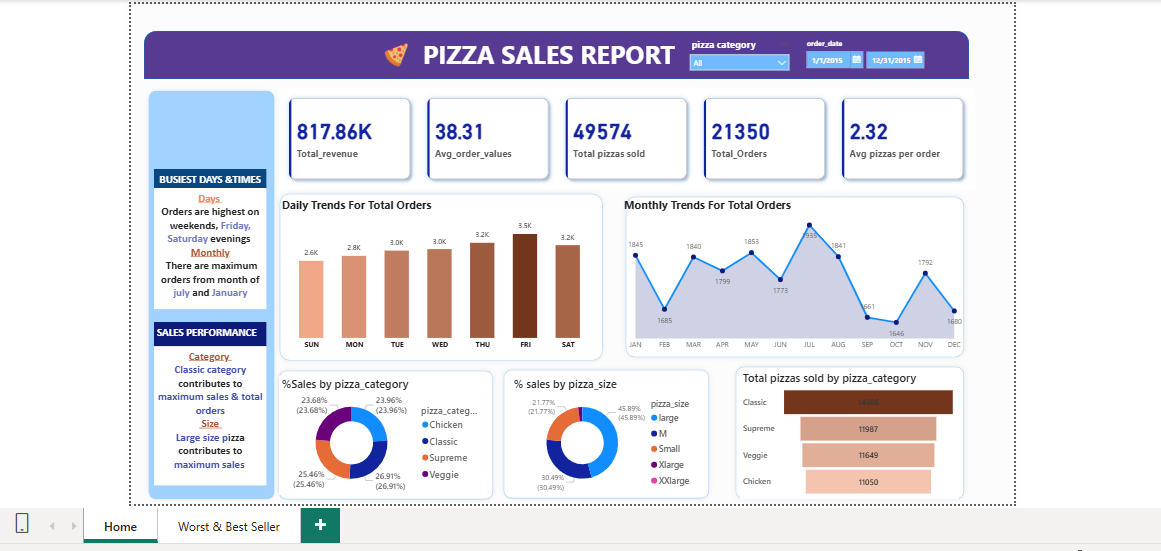

The dashboard page shown, as its layout file describes it:
{"tool":"powerbi","page":{"name":"Home","canvas":[1500,850],"ordinal":0},"visuals":[{"type":"shape","box":[21.5,138.8,229.7,710.5],"z":0},{"type":"cardVisual","fields":{"Data":["pizza_sales.Total_revenue","pizza_sales.Avg_order_values","pizza_sales.Total pizzas sold","pizza_sales.Total_Orders","pizza_sales.Avg pizzas per order"]},"box":[251.2,143.5,1184.2,172.2],"z":1000},{"type":"shape","box":[22.1,45.9,1402.5,81.6],"z":2000},{"type":"textbox","box":[491.4,51.7,469,70.7],"z":3000},{"type":"shape","box":[244.5,315.2,564.9,299.7],"z":4000},{"type":"columnChart","title":"Daily Trends For Total Orders","fields":{"Y":["pizza_sales.Total_Orders"],"Category":["pizza_sales.Order_Day"]},"box":[252.2,328.3,547.8,269.6],"z":5000},{"type":"shape","box":[832.6,319.6,591.3,289.1],"z":6000},{"type":"lineChart","title":"Monthly Trends For Total Orders","fields":{"Category":["pizza_sales.Order_Month"],"Y":["pizza_sales.Total_Orders"]},"box":[832.6,328.3,591.3,269.6],"z":7000},{"type":"shape","box":[243.5,615.2,380.4,234.8],"z":8000},{"type":"shape","box":[626.1,613,365.2,234.8],"z":9000},{"type":"shape","box":[1019.6,608.7,404.3,241.3],"z":10000},{"type":"donutChart","title":"%Sales by pizza_category","fields":{"Y":["pizza_sales.Total_revenue"],"Series":["pizza_sales.pizza_category"]},"box":[252.2,632.6,356.5,202.2],"z":11000},{"type":"donutChart","title":"% sales by pizza_size","fields":{"Y":["pizza_sales.Total_revenue"],"Series":["pizza_sales.pizza_size"]},"box":[645.7,632.6,330.4,202.2],"z":12000},{"type":"funnel","fields":{"Y":["pizza_sales.Total pizzas sold"],"Category":["pizza_sales.pizza_category"]},"box":[1034.8,621.7,371.7,219.6],"z":13000},{"type":"textbox","box":[38.3,279.9,191.4,33.5],"z":14000},{"type":"textbox","box":[38.3,313.4,191.4,205.7],"z":15000},{"type":"textbox","box":[38.3,581.3,191.4,236.8],"z":16000},{"type":"textbox","box":[38.3,540.7,191.4,40.7],"z":17000},{"type":"slicer","fields":{"Values":["pizza_sales.pizza_category"]},"box":[940.2,52.6,189,69.4],"z":18000},{"type":"slicer","fields":{"Values":["pizza_sales.order_date"]},"box":[1136.4,52.6,270.3,69.4],"z":19000},{"type":"image","box":[411.4,61.2,79.9,51],"z":19001}]}

Visuals, with their boxes on the page's 1500x850 design canvas (x1, y1, x2, y2). These are canvas units, not pixel positions in the 1161x551 screenshot, which may show the page scaled, cropped or inside an application window:
shape: {"left": 22, "top": 139, "right": 251, "bottom": 849}
cardVisual - pizza_sales.Total_revenue x pizza_sales.Avg_order_values: {"left": 251, "top": 144, "right": 1435, "bottom": 316}
shape: {"left": 22, "top": 46, "right": 1425, "bottom": 128}
textbox: {"left": 491, "top": 52, "right": 960, "bottom": 122}
shape: {"left": 244, "top": 315, "right": 809, "bottom": 615}
"Daily Trends For Total Orders" columnChart: {"left": 252, "top": 328, "right": 800, "bottom": 598}
shape: {"left": 833, "top": 320, "right": 1424, "bottom": 609}
"Monthly Trends For Total Orders" lineChart: {"left": 833, "top": 328, "right": 1424, "bottom": 598}
shape: {"left": 244, "top": 615, "right": 624, "bottom": 850}
shape: {"left": 626, "top": 613, "right": 991, "bottom": 848}
shape: {"left": 1020, "top": 609, "right": 1424, "bottom": 850}
"%Sales by pizza_category" donutChart: {"left": 252, "top": 633, "right": 609, "bottom": 835}
"% sales by pizza_size" donutChart: {"left": 646, "top": 633, "right": 976, "bottom": 835}
funnel - pizza_sales.Total pizzas sold x pizza_sales.pizza_category: {"left": 1035, "top": 622, "right": 1406, "bottom": 841}
textbox: {"left": 38, "top": 280, "right": 230, "bottom": 313}
textbox: {"left": 38, "top": 313, "right": 230, "bottom": 519}
textbox: {"left": 38, "top": 581, "right": 230, "bottom": 818}
textbox: {"left": 38, "top": 541, "right": 230, "bottom": 581}
slicer - pizza_sales.pizza_category: {"left": 940, "top": 53, "right": 1129, "bottom": 122}
slicer - pizza_sales.order_date: {"left": 1136, "top": 53, "right": 1407, "bottom": 122}
image: {"left": 411, "top": 61, "right": 491, "bottom": 112}
